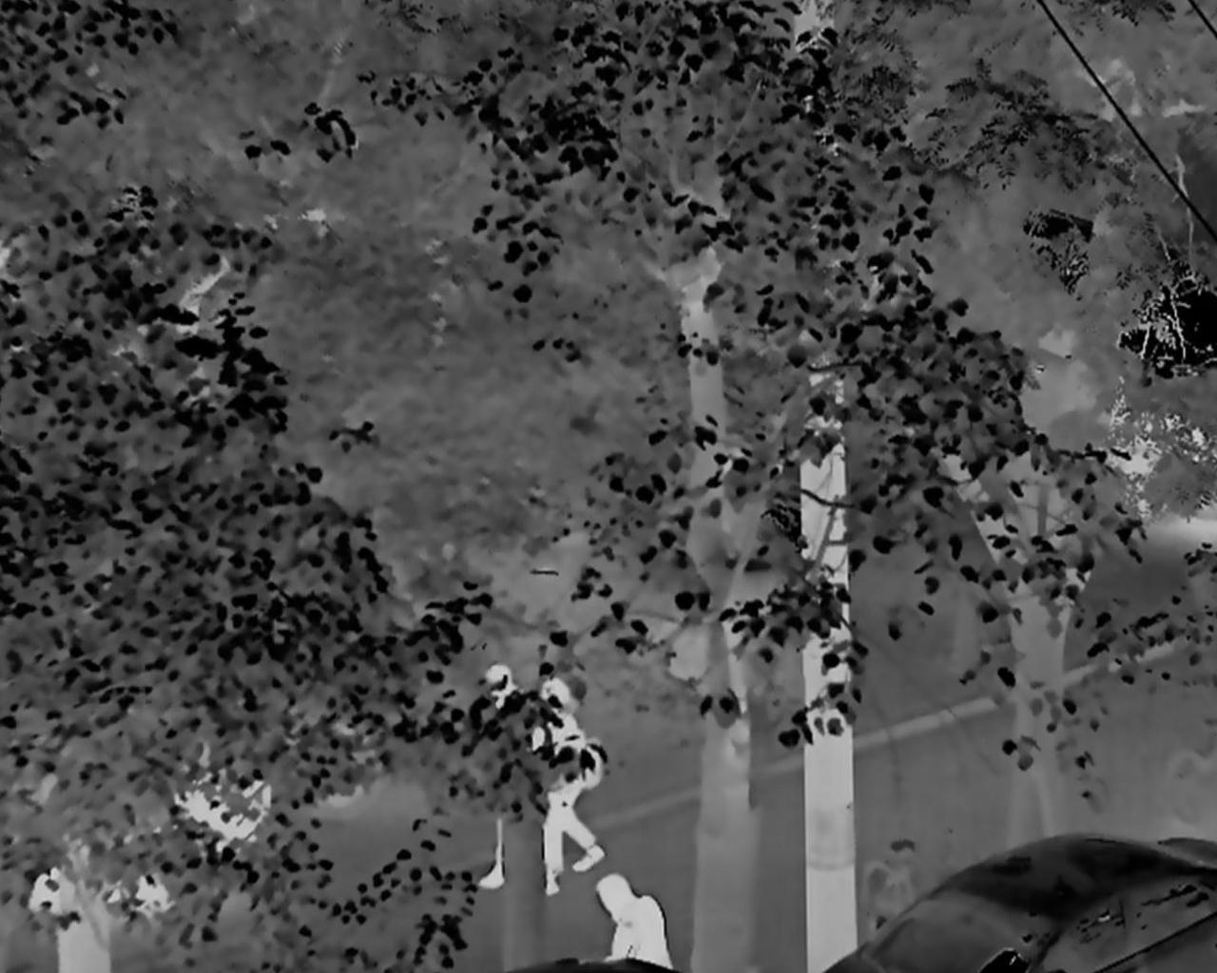person: (528, 673, 605, 902), (483, 663, 525, 895), (596, 873, 673, 973)
